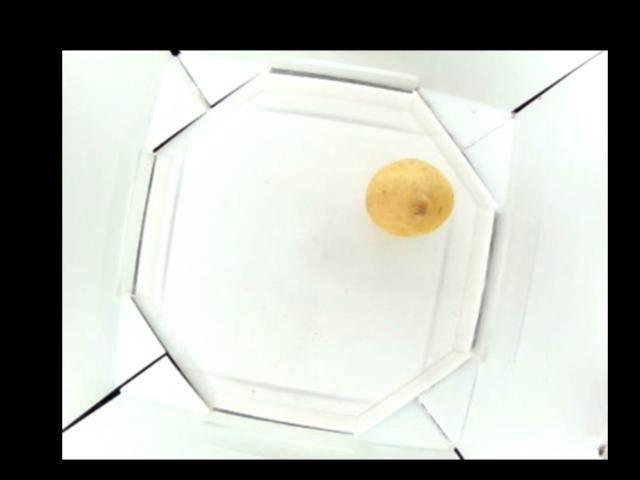Potato: (369, 157, 454, 236)
